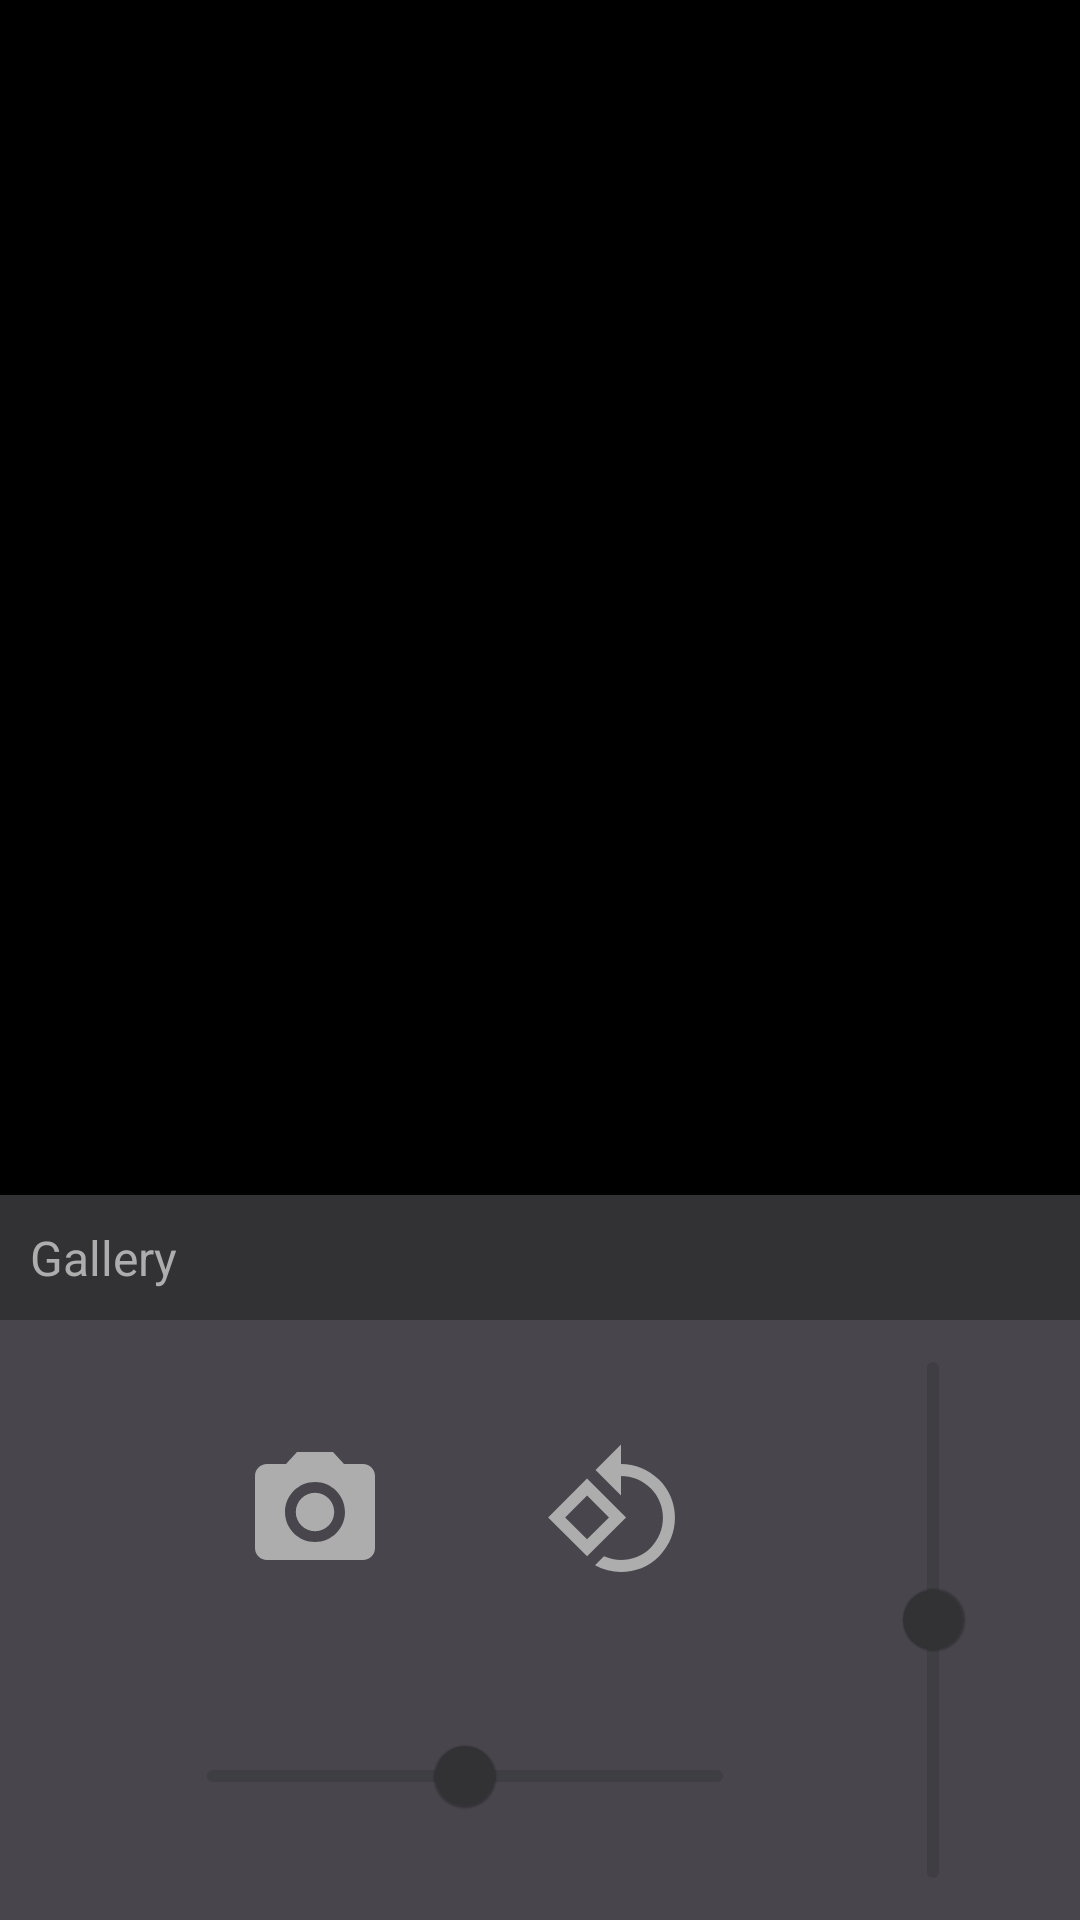

Screen size 1080 × 1920. Icon name, then its box in pixels as (x1, y1, x2, y2):
camera: (255, 1452, 375, 1560)
